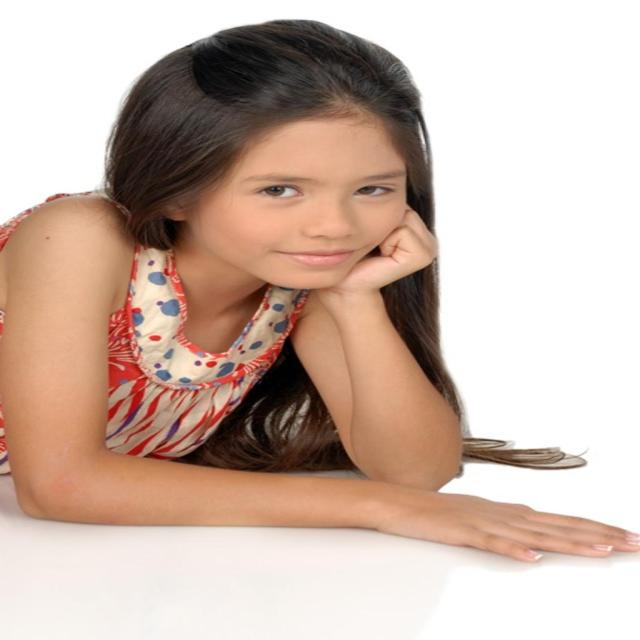Face: (197, 112, 414, 291)
